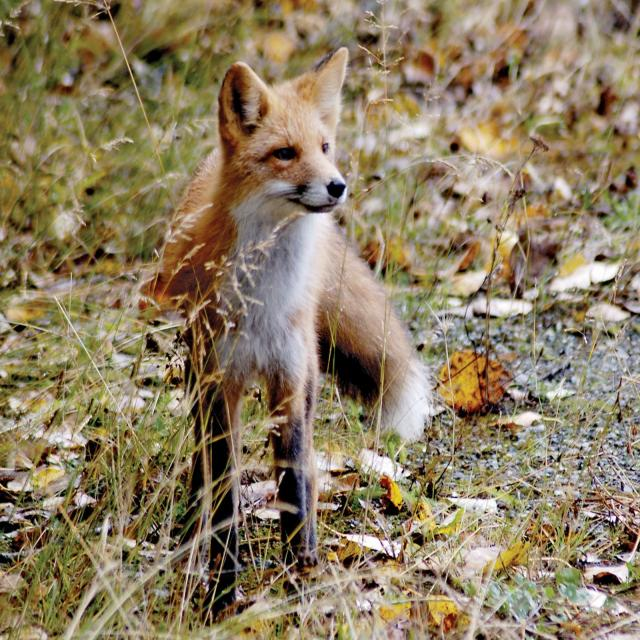Fox: (163, 44, 424, 602)
